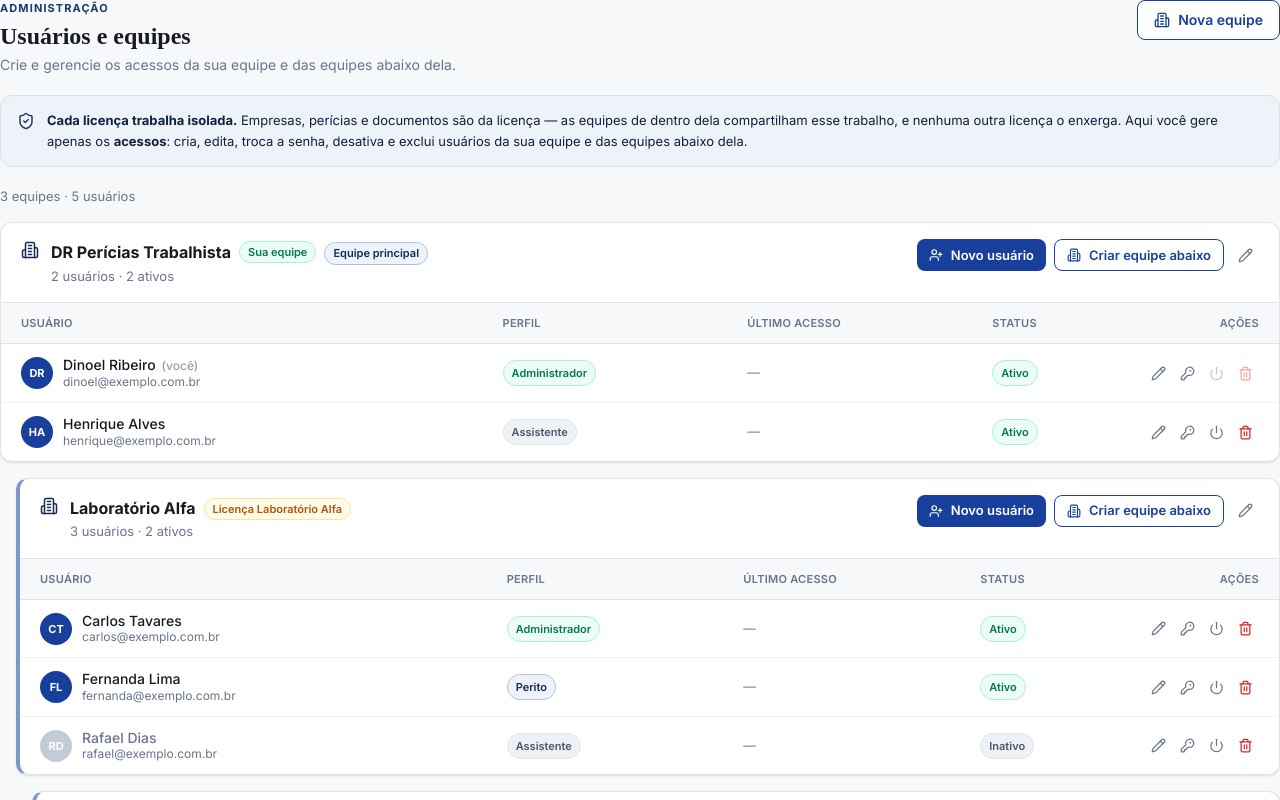
Test: Usuários e equipes — cadastrar › quem nasce sem escolha de perfil é assistente
Check: the element named "Equipe DR Perícias Trabalhista" is shown, box top-left (0, 222), bottom-right (1279, 462)
Click the button "Novo usuário" in the row of "Equipe principal". click: point(981, 255)
box: top-left (917, 239), bottom-right (1046, 271)
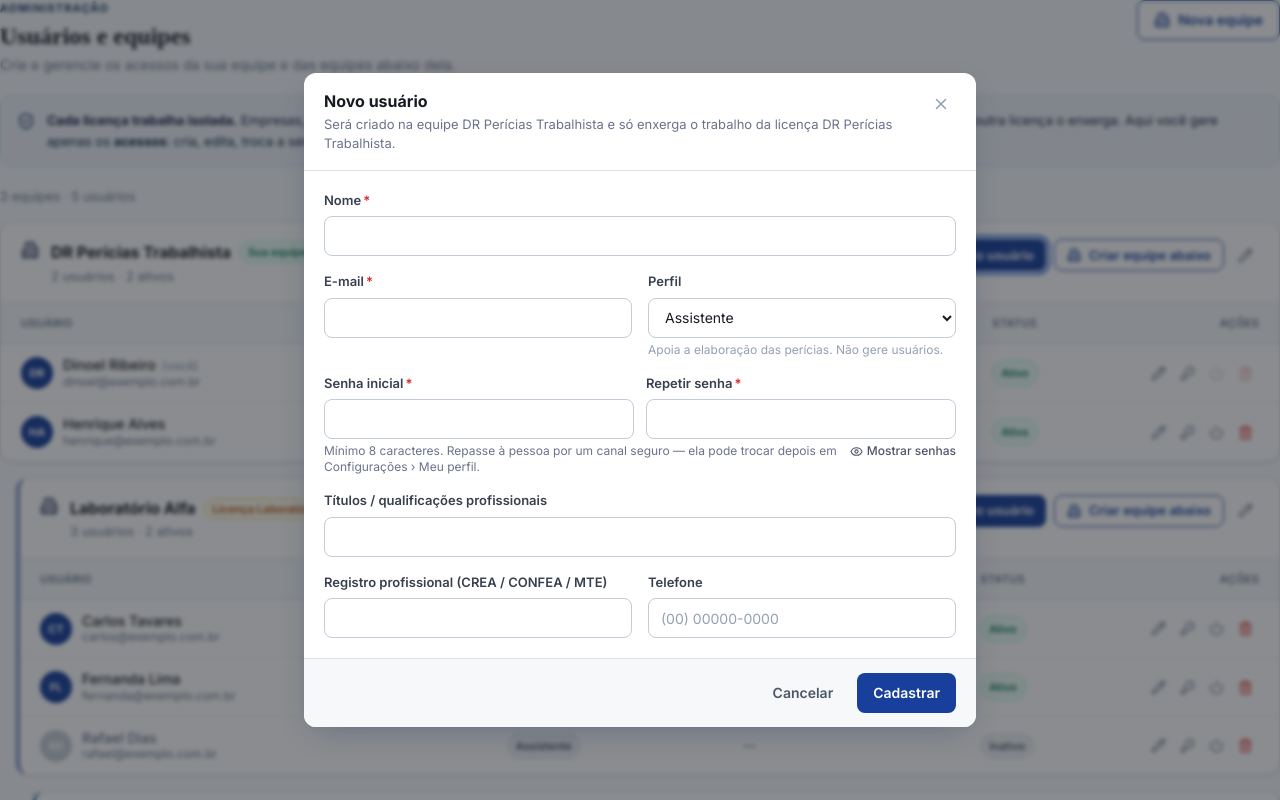
Check: the dropdown labelled "Perfil" shows "Assistente", box top-left (648, 298), bottom-right (956, 338)
